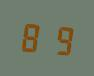eight: (19, 17, 45, 55)
nine: (46, 20, 72, 58)
